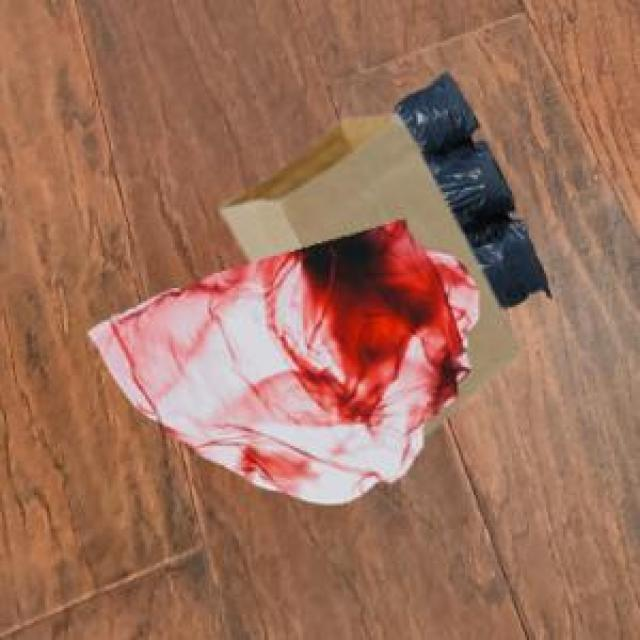miscellaneous trash: (388, 68, 545, 305)
paper: (218, 112, 516, 433)
